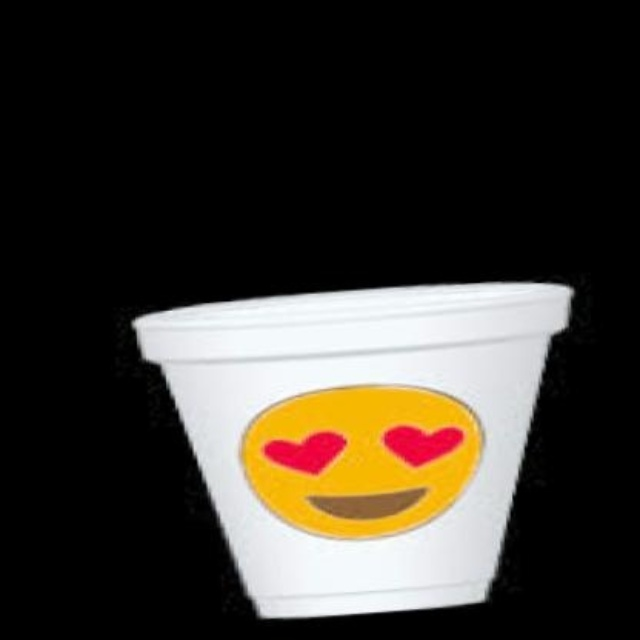trash: (134, 283, 571, 617)
